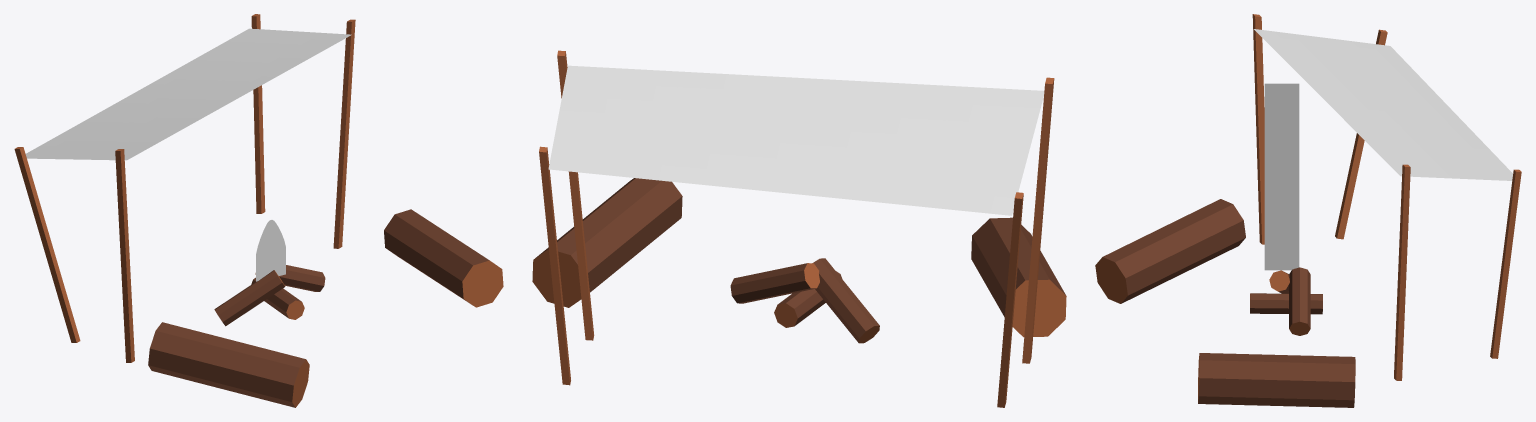
The model's file is tent.glb.
The picture shows the model from 3 angles, left to right: view 1: azimuth 30°, elevation 25°; view 2: azimuth 150°, elevation 25°; view 3: azimuth 270°, elevation 25°; orthographic projection. The views are drawn at different scales.
Parts seen in each view (by area): view 1: Cylinder.001, tent_cloth, fire_wood_fire2; view 2: tent_cloth, Cylinder.001; view 3: Cylinder.001, tent_cloth, smoke.
Boxes of the visible parts, <box> form: Cylinder.001: <box>14,14,503,407</box>; tent_cloth: <box>25,28,351,160</box>; fire_wood_fire2: <box>256,220,285,281</box>; tent_cloth: <box>548,65,1044,215</box>; Cylinder.001: <box>532,50,1066,407</box>; Cylinder.001: <box>1095,14,1521,407</box>; tent_cloth: <box>1254,29,1512,180</box>; smoke: <box>1264,83,1299,270</box>.
Size of the model in its own units: 4.51 by 2.64 by 4.14.
